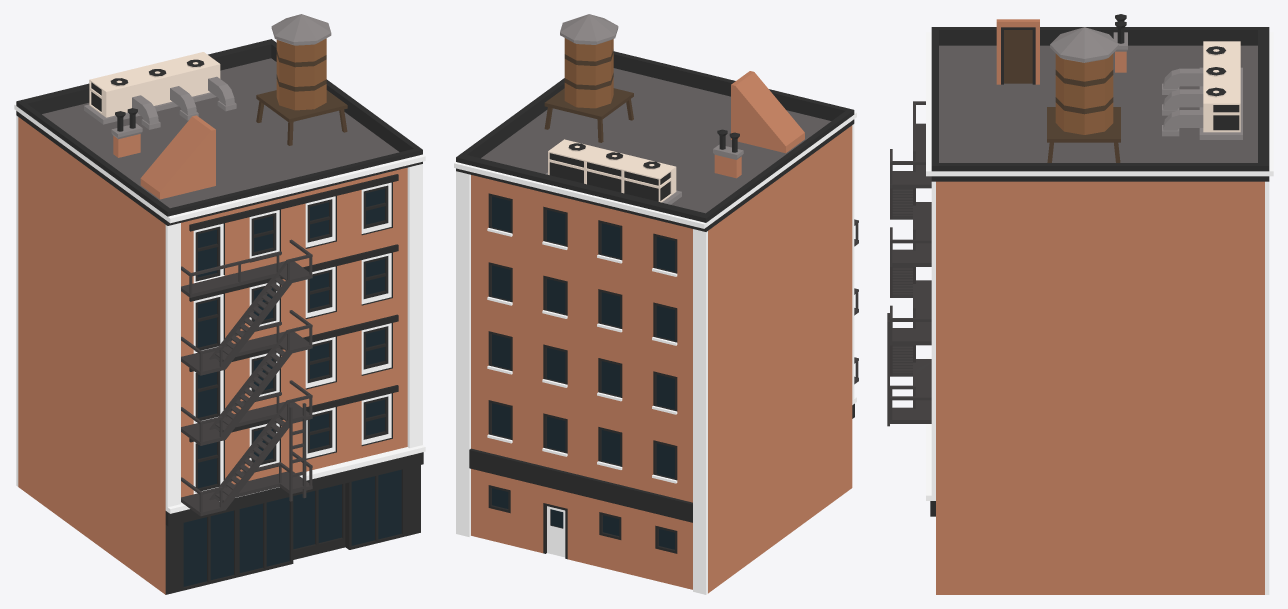
File: building-block-4floor-front.glb
The picture shows the model from 3 angles, left to right: view 1: azimuth 30°, elevation 25°; view 2: azimuth 150°, elevation 25°; view 3: azimuth 270°, elevation 25°; orthographic projection. The views are drawn at different scales.
Parts seen in each view (by area): view 1: building-block-4floor-front; view 2: building-block-4floor-front; view 3: building-block-4floor-front.
Part boxes in pixels (x1=…): building-block-4floor-front: x1=14, y1=14, x2=425, y2=594; building-block-4floor-front: x1=454, y1=14, x2=858, y2=594; building-block-4floor-front: x1=887, y1=14, x2=1273, y2=594.
Bounding box in the file's own units: 11.4 × 20.61 × 13.4.
1 material, 1 textured.
